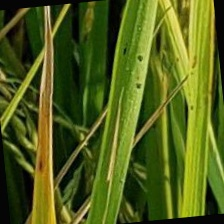Leaf_Blast: (28, 10, 63, 183)
